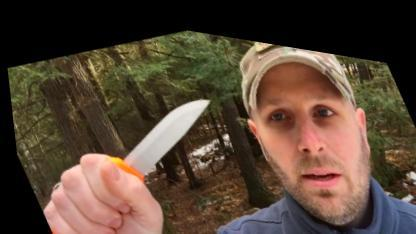knife: (26, 59, 261, 233)
